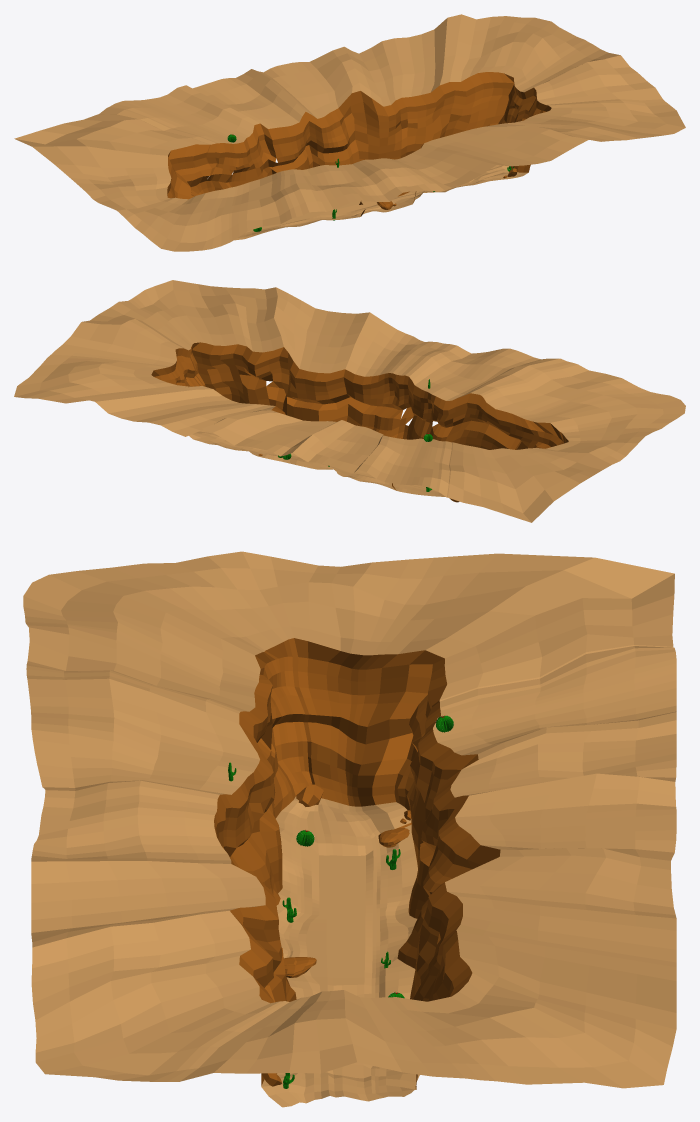
The model's file is map.glb.
3 renders of one model, top to bottom at view 1: azimuth 30°, elevation 25°; view 2: azimuth 150°, elevation 25°; view 3: azimuth 270°, elevation 25°, orthographic. The views are drawn at different scales.
Visible parts, largest first — view 1: Grid; view 2: Grid; view 3: Grid.
Part boxes in pixels (x1,y1,x2,y2): Grid: (14,14,685,251); Grid: (14,280,685,522); Grid: (23,551,676,1107).
Size of the model in its own units: 27.33 by 4.24 by 14.5.
